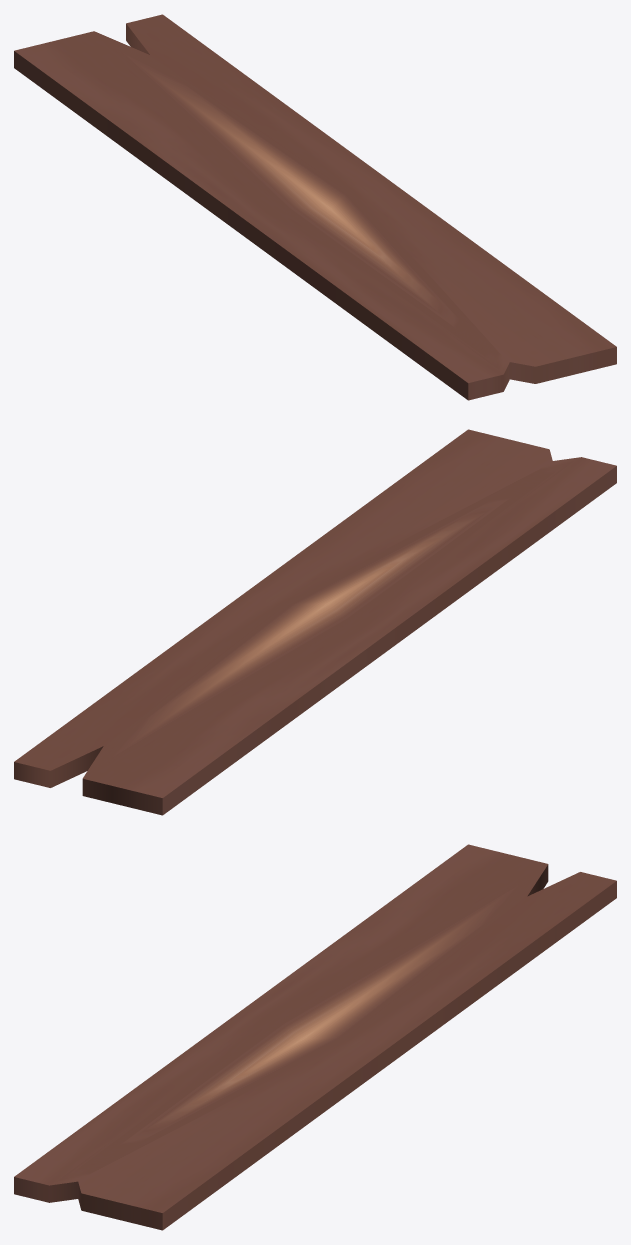
File: Plank_Medium.fbx
3 renders of one model, top to bottom at view 1: azimuth 30°, elevation 25°; view 2: azimuth 150°, elevation 25°; view 3: azimuth 330°, elevation 25°, orthographic.
Parts seen in each view (by area): view 1: pCube28; view 2: pCube28; view 3: pCube28.
Boxes of the visible parts, left/top/right/bottom form: pCube28: left=14, top=14, right=616, bottom=400; pCube28: left=14, top=429, right=616, bottom=815; pCube28: left=14, top=844, right=616, bottom=1230.
Size of the model in its own units: 193 by 21.54 by 1023.
